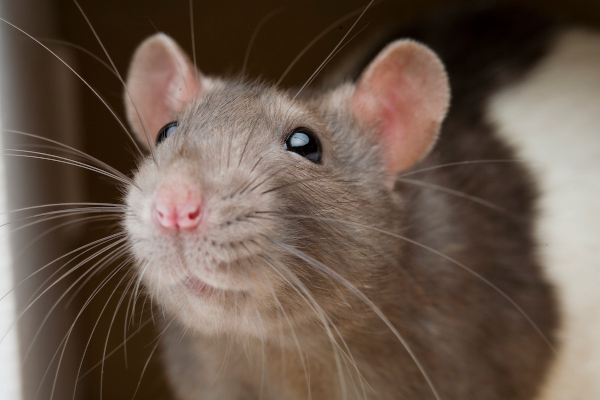rat: (80, 20, 473, 366)
